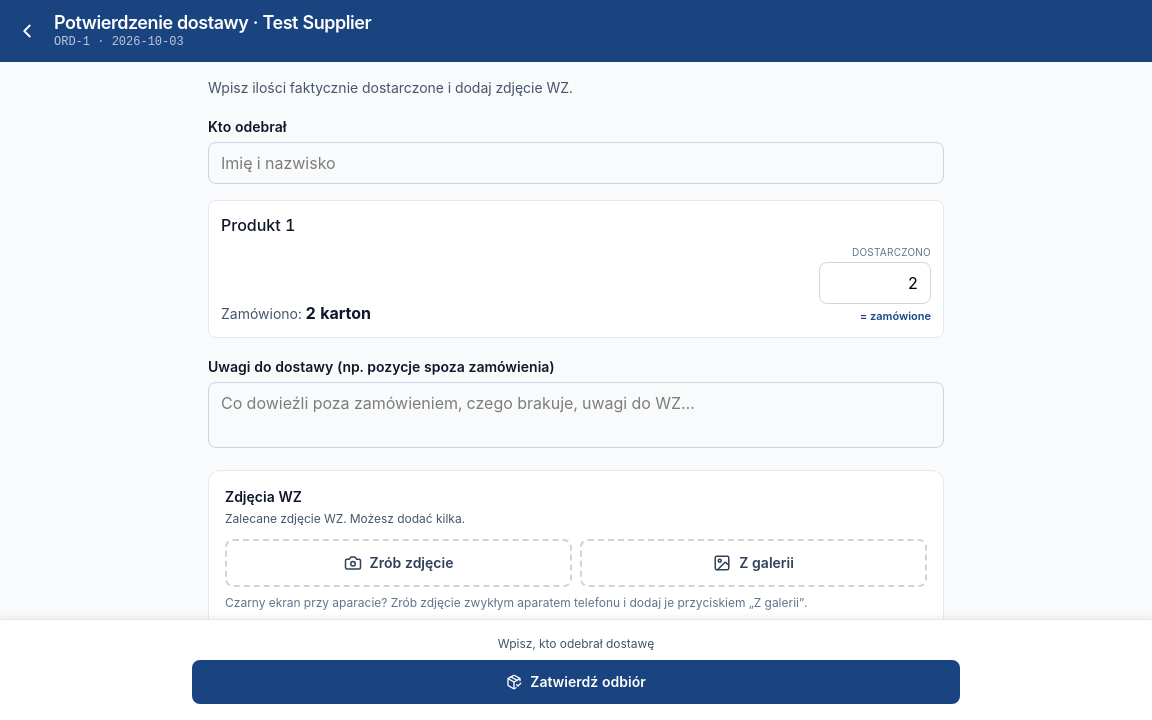
Test case: ReceiveDeliveryPage received-by message (N4) › clicking confirm with an empty name shows the inline error, focuses the field, and does not submit
Click the button "Zatwierdź odbiór": click(576, 682) left=192, top=660, right=960, bottom=704
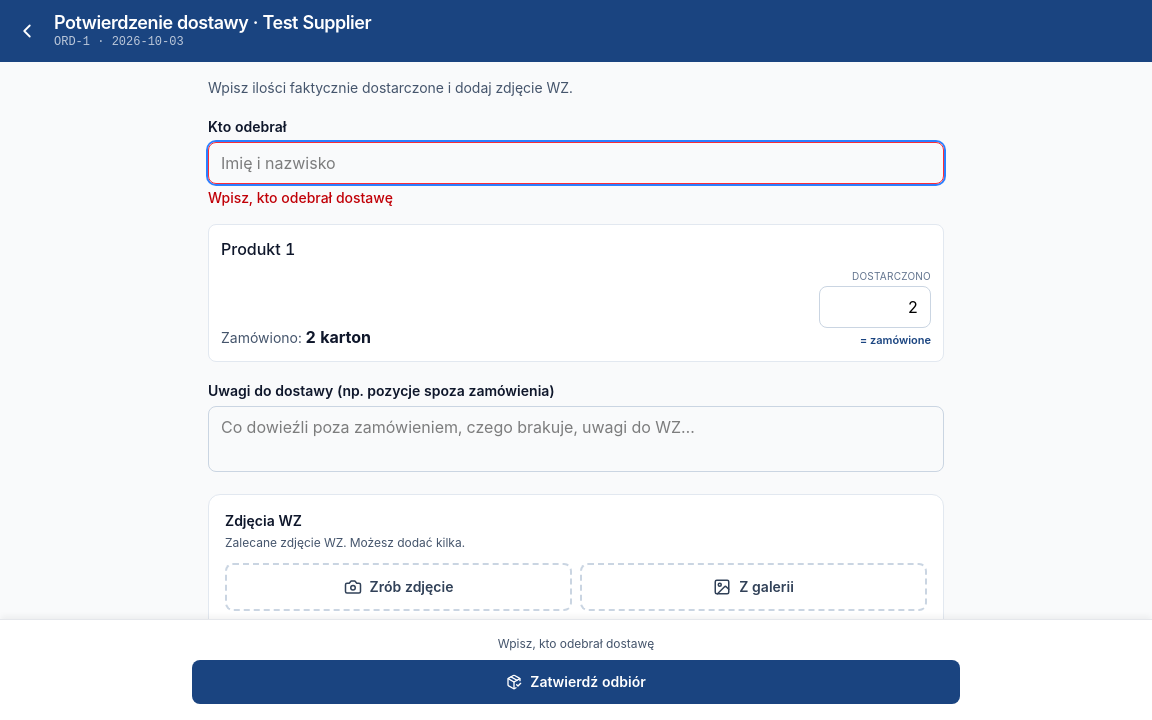
Check: the message reads "Wpisz, kto odebrał dostawę", box left=208, top=189, right=393, bottom=206
